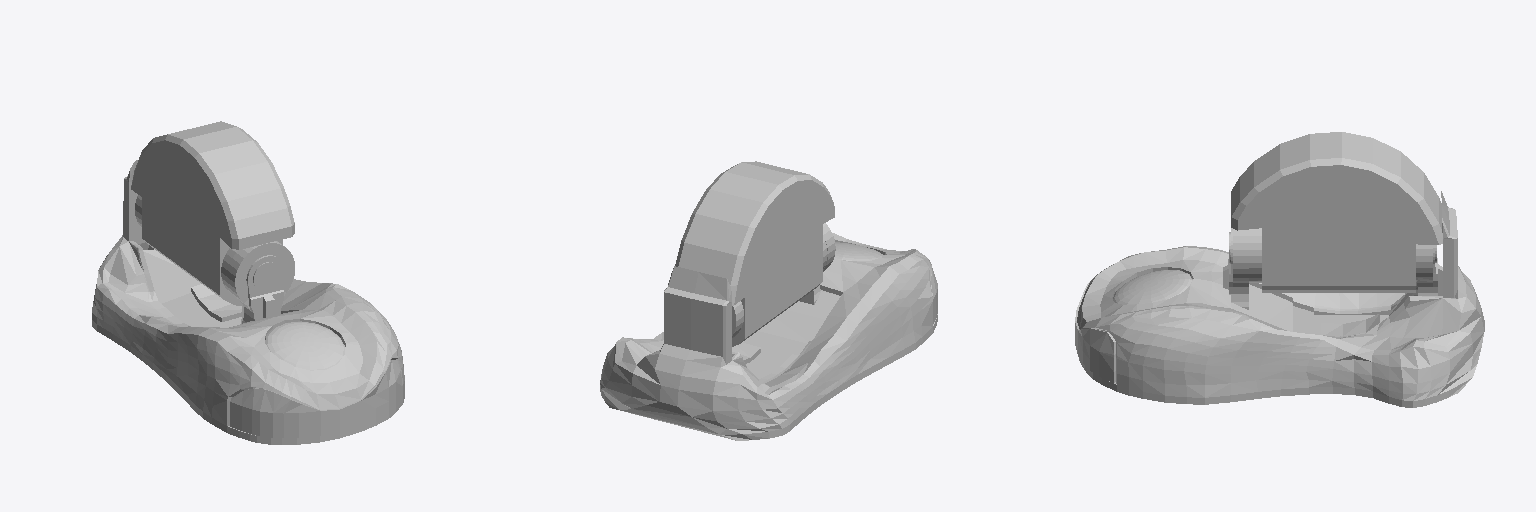
The model's file is pied.obj.
The picture shows the model from 3 angles: view 1: azimuth 30°, elevation 25°; view 2: azimuth 150°, elevation 25°; view 3: azimuth 270°, elevation 25°; orthographic projection.
Parts seen in each view (by area): view 1: Pied_Chest.021; view 2: Pied_Chest.021; view 3: Pied_Chest.021.
Boxes of the visible parts, x1,y1,x2,y2 form: Pied_Chest.021: [92, 121, 404, 444]; Pied_Chest.021: [600, 161, 937, 440]; Pied_Chest.021: [1075, 132, 1484, 407].
Size of the model in its own units: 0.9049 by 0.8963 by 1.6.